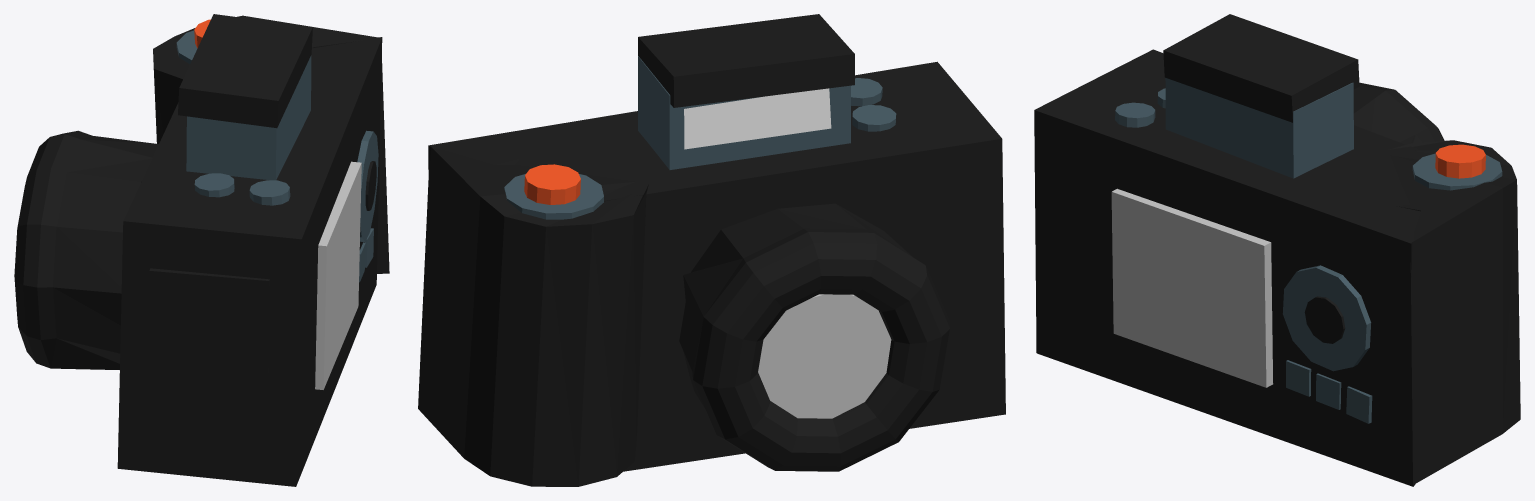
The picture shows the model from 3 angles, left to right: view 1: azimuth 30°, elevation 25°; view 2: azimuth 150°, elevation 25°; view 3: azimuth 270°, elevation 25°; orthographic projection. The views are drawn at different scales.
Parts seen in each view (by area): view 1: mesh_187960395, mesh_421370910, mesh_563972974, mesh_1841487932, mesh_1442659403, mesh_1660282777, mesh_1050759265, mesh_326494754, mesh_1049064424, mesh_1103111000, mesh_417813621, mesh_1230812601; view 2: mesh_187960395, mesh_1050759265, mesh_421370910, mesh_1841487932, mesh_1660282777, mesh_1770708456, mesh_417813621, mesh_1481700145, mesh_1103111000, mesh_1049064424; view 3: mesh_187960395, mesh_1050759265, mesh_1442659403, mesh_1841487932, mesh_1660282777, mesh_326494754, mesh_421370910, mesh_417813621, mesh_1481700145, mesh_1230812601, mesh_1049064424, mesh_869650960 (+2 smaller).
Part boxes in pixels (<box>): mesh_187960395: <box>117,37,382,486</box>; mesh_421370910: <box>14,130,158,369</box>; mesh_563972974: <box>147,268,269,419</box>; mesh_1841487932: <box>178,14,312,128</box>; mesh_1442659403: <box>315,161,361,389</box>; mesh_1660282777: <box>186,55,311,180</box>; mesh_1050759265: <box>153,15,389,273</box>; mesh_326494754: <box>357,130,378,241</box>; mesh_1049064424: <box>249,180,290,205</box>; mesh_1103111000: <box>194,173,234,197</box>; mesh_417813621: <box>176,30,197,63</box>; mesh_1230812601: <box>365,161,376,210</box>; mesh_187960395: <box>428,61,1005,471</box>; mesh_1050759265: <box>418,147,648,486</box>; mesh_421370910: <box>679,203,949,471</box>; mesh_1841487932: <box>638,14,854,107</box>; mesh_1660282777: <box>638,56,850,169</box>; mesh_1770708456: <box>758,294,891,418</box>; mesh_417813621: <box>504,174,603,219</box>; mesh_1481700145: <box>524,164,580,204</box>; mesh_1103111000: <box>852,105,896,131</box>; mesh_1049064424: <box>851,78,882,106</box>; mesh_187960395: <box>1034,49,1431,486</box>; mesh_1050759265: <box>1390,140,1520,484</box>; mesh_1442659403: <box>1111,188,1273,387</box>; mesh_1841487932: <box>1163,14,1359,122</box>; mesh_1660282777: <box>1165,78,1353,178</box>; mesh_326494754: <box>1282,265,1371,371</box>; mesh_421370910: <box>1353,82,1444,144</box>; mesh_417813621: <box>1412,153,1502,190</box>; mesh_1481700145: <box>1435,144,1485,178</box>; mesh_1230812601: <box>1304,296,1345,343</box>; mesh_1049064424: <box>1115,102,1155,127</box>; mesh_869650960: <box>1346,386,1372,423</box>.
Bounding box in the file's own units: 48.23 × 37.96 × 48.28.
